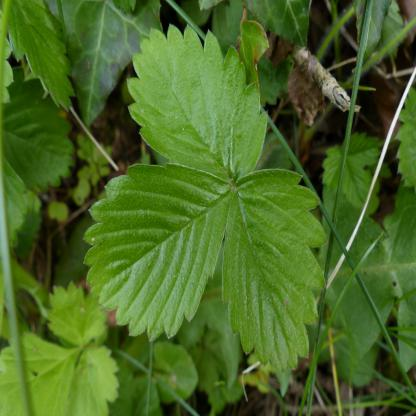strawberry leaf: (78, 159, 236, 344), (121, 20, 271, 202), (225, 168, 324, 385)
